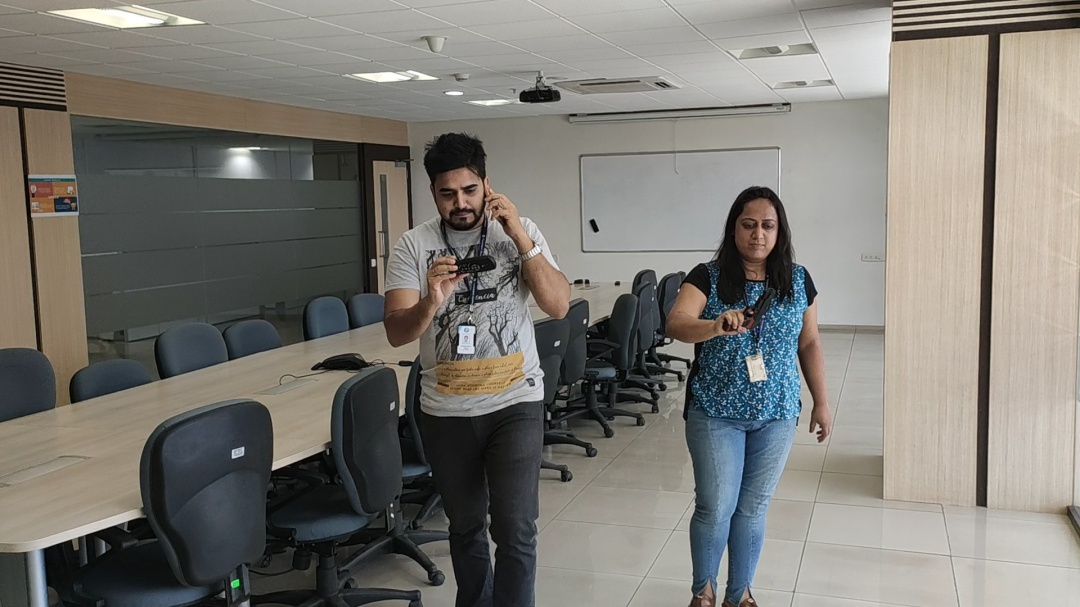gun: (721, 286, 776, 331)
